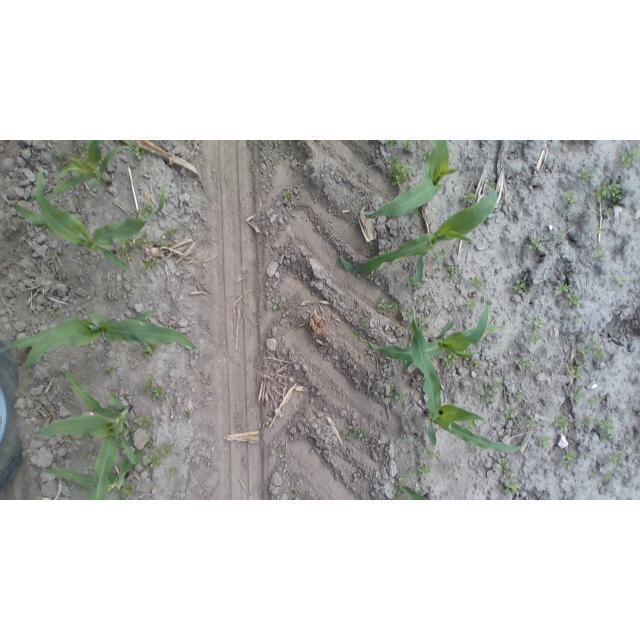Maize: (337, 178, 500, 286), (8, 174, 168, 276), (413, 317, 526, 456), (32, 365, 140, 500), (351, 297, 508, 376), (5, 307, 200, 370), (349, 140, 461, 217), (48, 141, 133, 208), (39, 447, 146, 500), (400, 483, 431, 500)
Weeds: (582, 415, 615, 442), (388, 155, 413, 188), (499, 457, 518, 498), (591, 181, 624, 204), (338, 426, 367, 442), (376, 298, 400, 314), (620, 148, 638, 169), (511, 279, 531, 296), (118, 480, 135, 499), (486, 381, 500, 404), (577, 166, 595, 183), (514, 356, 533, 372), (392, 480, 406, 500), (611, 449, 628, 465), (552, 414, 568, 431), (568, 386, 584, 403), (119, 241, 133, 260), (136, 203, 152, 219), (142, 257, 159, 272), (592, 244, 607, 261), (442, 353, 457, 369), (593, 346, 608, 362), (469, 275, 486, 289), (417, 318, 430, 335), (533, 316, 546, 333), (144, 341, 156, 359), (563, 451, 578, 465), (563, 190, 577, 205), (571, 364, 585, 379), (463, 189, 478, 203), (138, 232, 150, 249), (555, 283, 573, 294), (132, 145, 145, 160), (72, 141, 84, 157), (423, 447, 439, 459), (152, 385, 165, 399), (446, 266, 459, 280), (433, 249, 447, 262), (528, 236, 540, 251), (394, 390, 407, 403), (148, 454, 160, 468), (407, 275, 419, 289), (139, 416, 152, 428), (466, 298, 478, 311), (160, 446, 173, 458), (418, 462, 431, 474), (568, 293, 579, 307), (234, 413, 242, 432), (406, 307, 414, 325), (587, 396, 599, 408), (164, 227, 176, 239), (578, 345, 590, 357), (615, 276, 629, 286), (387, 382, 398, 394), (531, 332, 540, 346), (505, 408, 516, 418), (273, 300, 283, 311), (282, 190, 292, 201), (144, 438, 154, 449), (156, 240, 168, 249), (62, 438, 74, 447), (378, 483, 387, 495), (537, 437, 549, 446), (401, 141, 411, 151), (55, 152, 66, 161), (557, 230, 566, 241), (592, 337, 601, 348), (145, 378, 153, 390), (270, 160, 279, 170), (45, 309, 55, 318), (87, 449, 96, 459), (516, 393, 525, 403), (467, 420, 477, 429), (397, 473, 407, 482), (291, 212, 299, 223), (471, 359, 482, 367), (388, 141, 397, 150), (74, 198, 83, 207), (597, 226, 606, 235), (606, 472, 615, 481), (57, 161, 67, 169), (476, 388, 484, 398), (409, 208, 419, 216), (489, 342, 500, 349), (259, 207, 267, 216), (86, 434, 95, 442), (470, 444, 479, 452), (402, 433, 411, 441), (359, 319, 367, 328), (526, 419, 535, 427), (146, 378, 154, 387), (171, 467, 179, 475), (423, 153, 430, 162), (434, 267, 442, 274), (289, 493, 297, 500), (110, 392, 118, 399), (186, 411, 193, 419), (587, 450, 594, 457), (607, 208, 614, 215), (107, 367, 115, 373), (407, 468, 415, 474), (277, 447, 283, 455), (574, 315, 580, 322)
